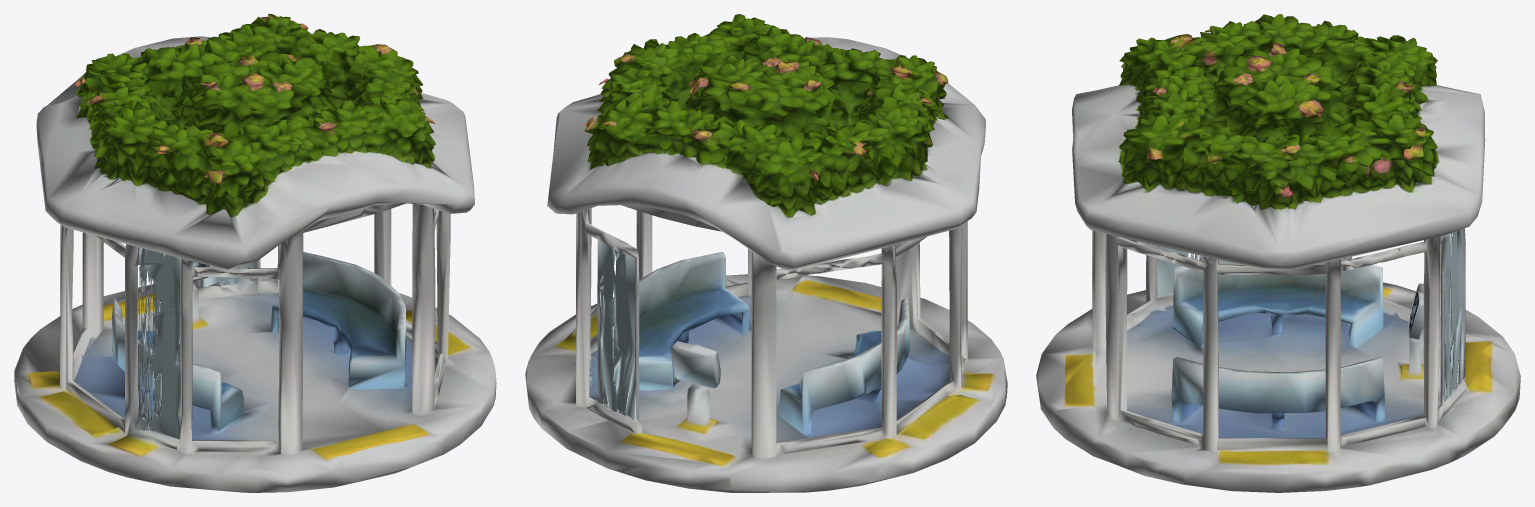
Rendered from estacion.glb.
The picture shows the model from 3 angles, left to right: view 1: azimuth 30°, elevation 25°; view 2: azimuth 150°, elevation 25°; view 3: azimuth 270°, elevation 25°; orthographic projection.
Parts seen in each view (by area): view 1: tripo_node_203d3d27-e6f1-43a1-a9b1-862de507df4f; view 2: tripo_node_203d3d27-e6f1-43a1-a9b1-862de507df4f; view 3: tripo_node_203d3d27-e6f1-43a1-a9b1-862de507df4f.
Part boxes in pixels (<box>): tripo_node_203d3d27-e6f1-43a1-a9b1-862de507df4f: <box>14,14,496,492</box>; tripo_node_203d3d27-e6f1-43a1-a9b1-862de507df4f: <box>525,14,1007,492</box>; tripo_node_203d3d27-e6f1-43a1-a9b1-862de507df4f: <box>1036,14,1520,492</box>.
Bounding box in the file's own units: 0.9958 × 0.7434 × 0.9995.
1 material, 1 textured.
